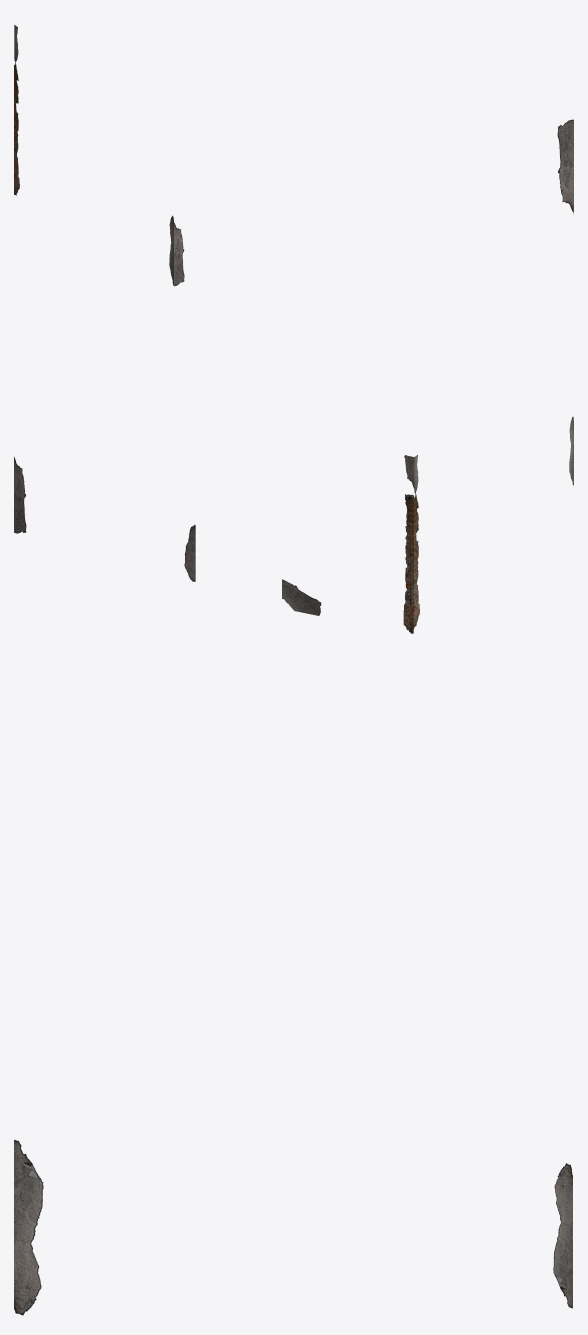
File: BuildingSmallDecal01.glb
3 renders of one model, top to bottom at view 1: azimuth 30°, elevation 25°; view 2: azimuth 150°, elevation 25°; view 3: azimuth 270°, elevation 25°, orthographic. The views are drawn at different scales.
Parts seen in each view (by area): view 1: xiutz_building_small_decal_0; view 2: xiutz_building_small_decal_0; view 3: xiutz_building_small_decal_0.
Part boxes in pixels (bbox=[...]): xiutz_building_small_decal_0: bbox=[14, 25, 573, 286]; xiutz_building_small_decal_0: bbox=[14, 416, 573, 633]; xiutz_building_small_decal_0: bbox=[14, 1139, 572, 1315].
Size of the model in its own units: 8.36 by 3.67 by 5.78.
Materials: 1 (1 with a texture image).
